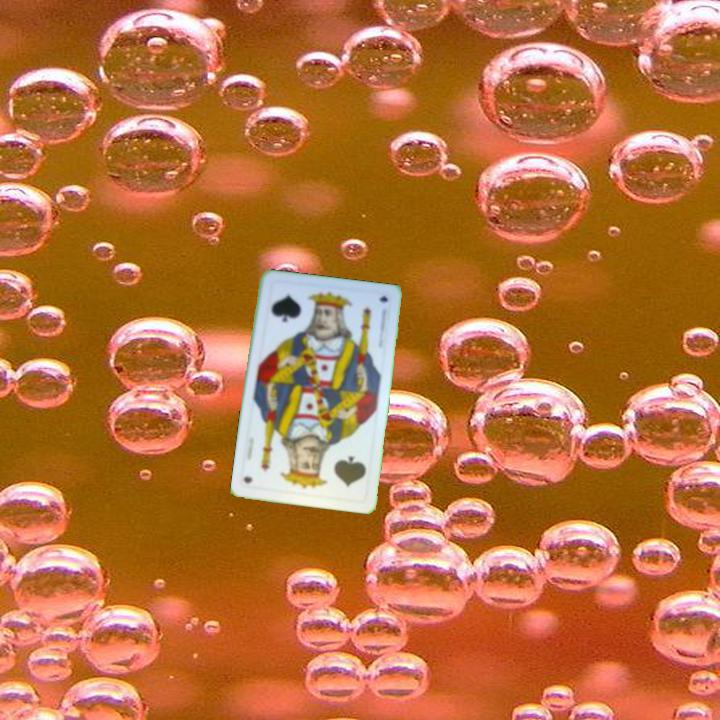s_k.png: (301, 438, 374, 504), (259, 279, 332, 344)
